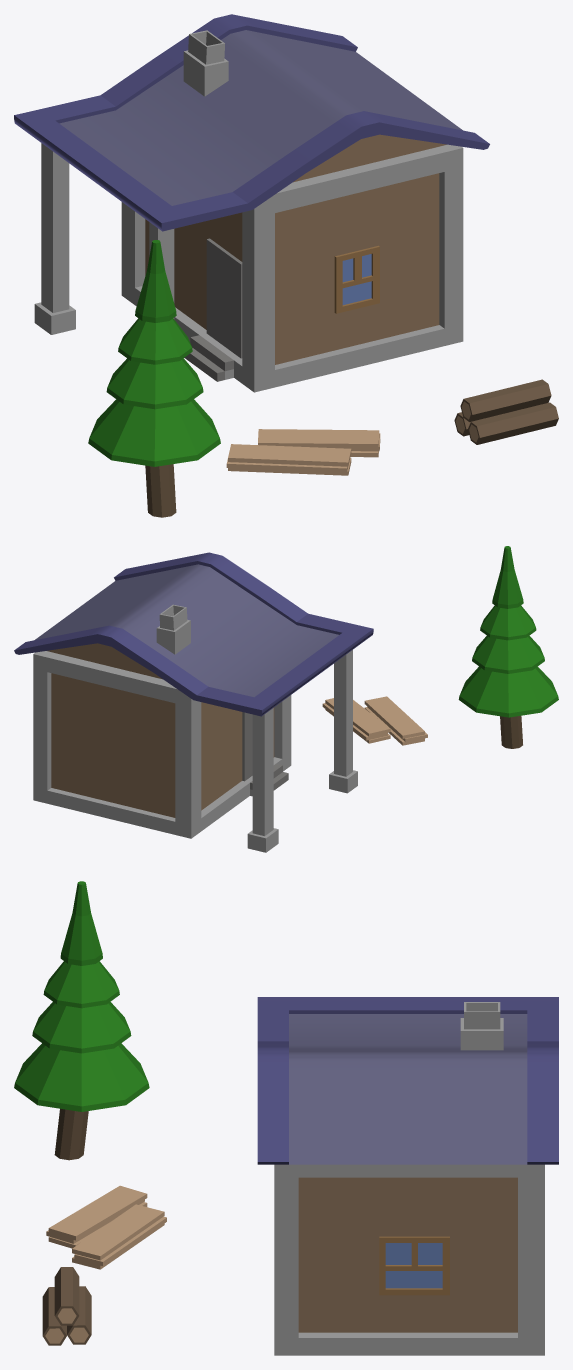
Rendered from sawmill.fbx.
The picture shows the model from 3 angles, top to bottom: view 1: azimuth 30°, elevation 25°; view 2: azimuth 150°, elevation 25°; view 3: azimuth 270°, elevation 25°; orthographic projection. The views are drawn at different scales.
Visible parts, largest first — view 1: sawmill; view 2: sawmill; view 3: sawmill.
Boxes of the visible parts, x1,y1,x2,y2 form: sawmill: [14, 14, 558, 517]; sawmill: [14, 546, 558, 852]; sawmill: [14, 881, 558, 1355].
Size of the model in its own units: 82.96 by 44.51 by 80.46.
